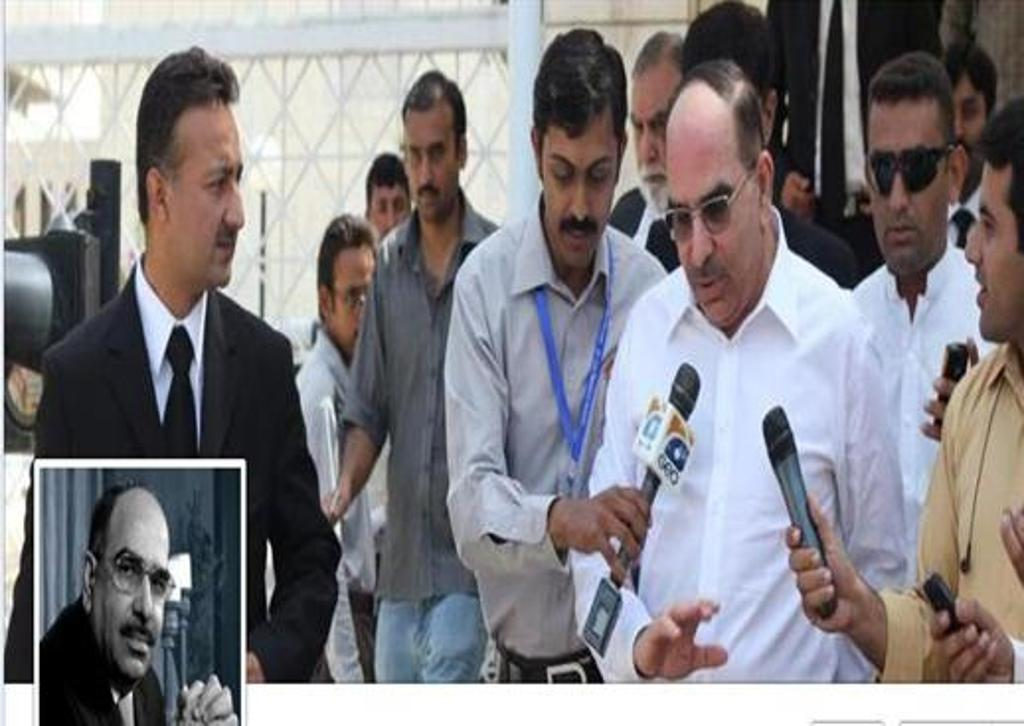face: (666, 99, 754, 325), (864, 96, 948, 274), (168, 105, 244, 287), (95, 496, 169, 679), (542, 104, 615, 269), (965, 159, 1020, 342), (631, 70, 687, 207), (406, 107, 455, 218), (332, 249, 378, 356), (933, 74, 985, 161), (369, 185, 408, 253)
